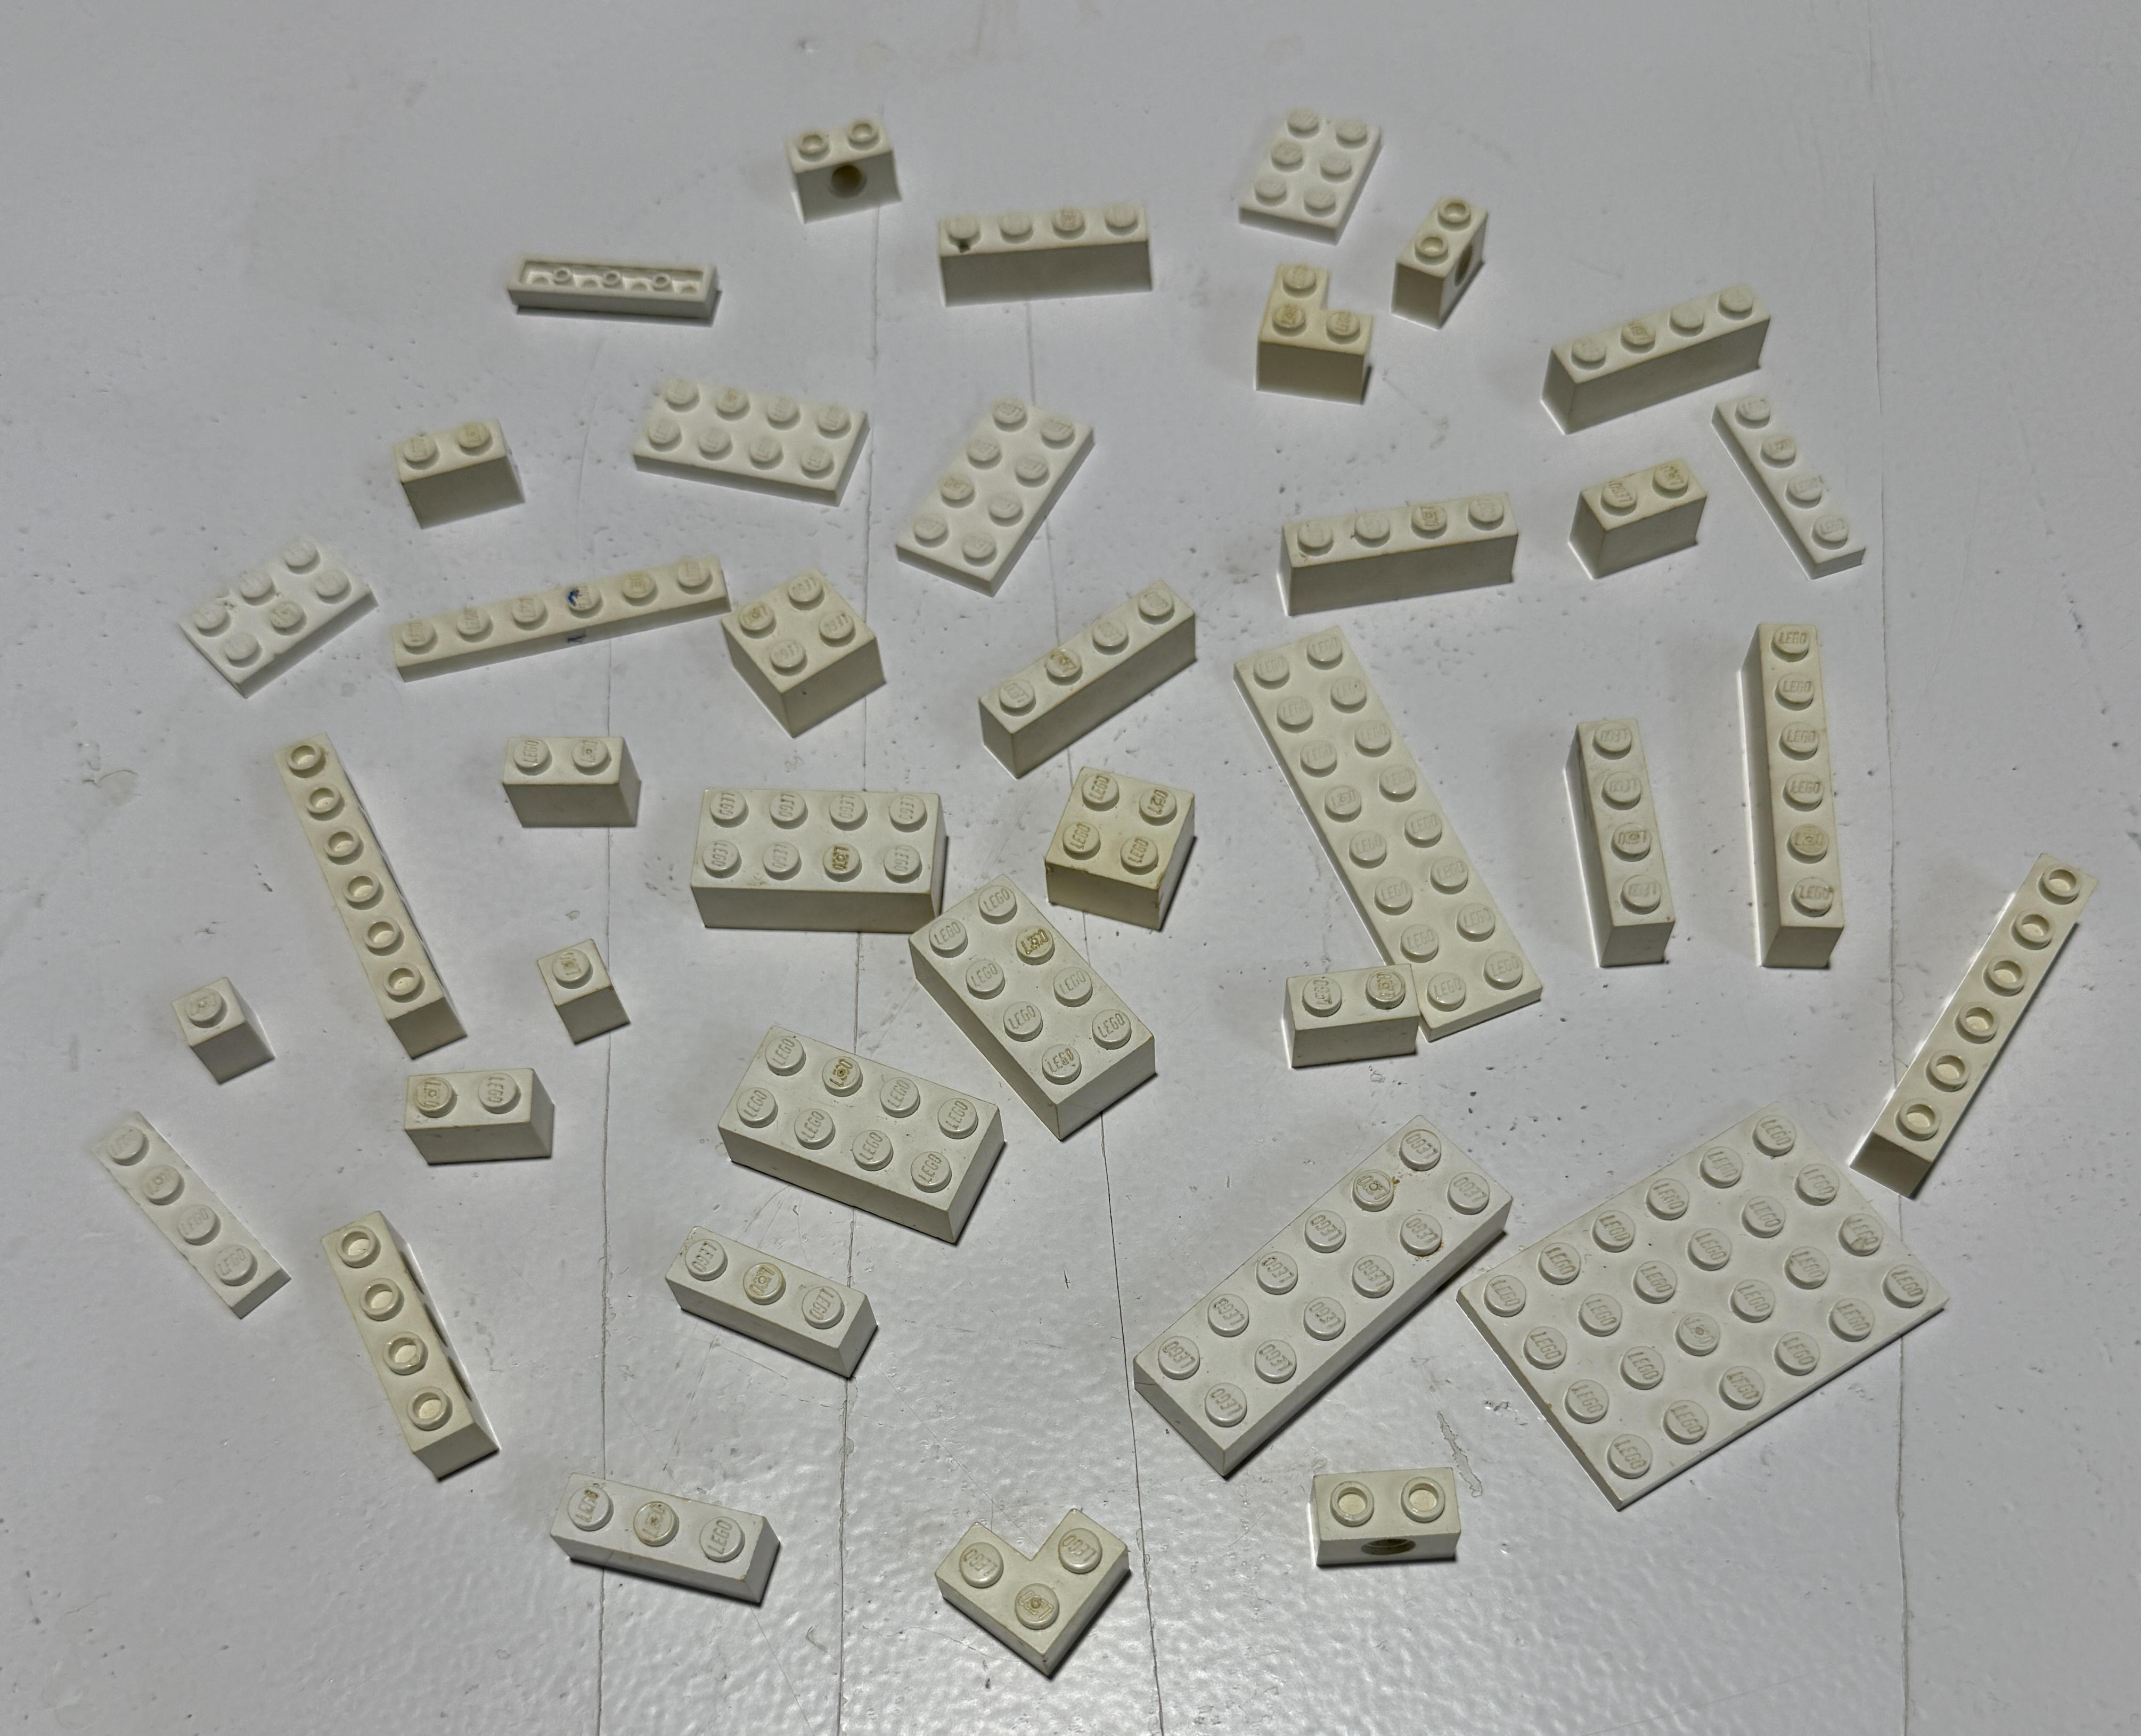brick_1x1: (512, 909, 648, 1066), (158, 957, 283, 1100)
brick_1x2: (1264, 1421, 1503, 1607), (464, 698, 682, 852), (381, 404, 583, 553), (386, 1040, 570, 1190), (1371, 174, 1525, 342), (1264, 949, 1447, 1084), (777, 97, 924, 244), (1569, 441, 1720, 576)
brick_1x3: (650, 1203, 898, 1398), (535, 1442, 804, 1619)
brick_1x4: (319, 1197, 529, 1506), (953, 569, 1222, 785), (1243, 462, 1539, 632), (1516, 273, 1792, 450), (1542, 686, 1698, 996), (910, 179, 1183, 337)
brick_2x2: (993, 755, 1222, 941), (710, 549, 912, 748)
brick_2x4: (855, 861, 1172, 1128), (699, 1019, 1025, 1254), (678, 765, 965, 946)
